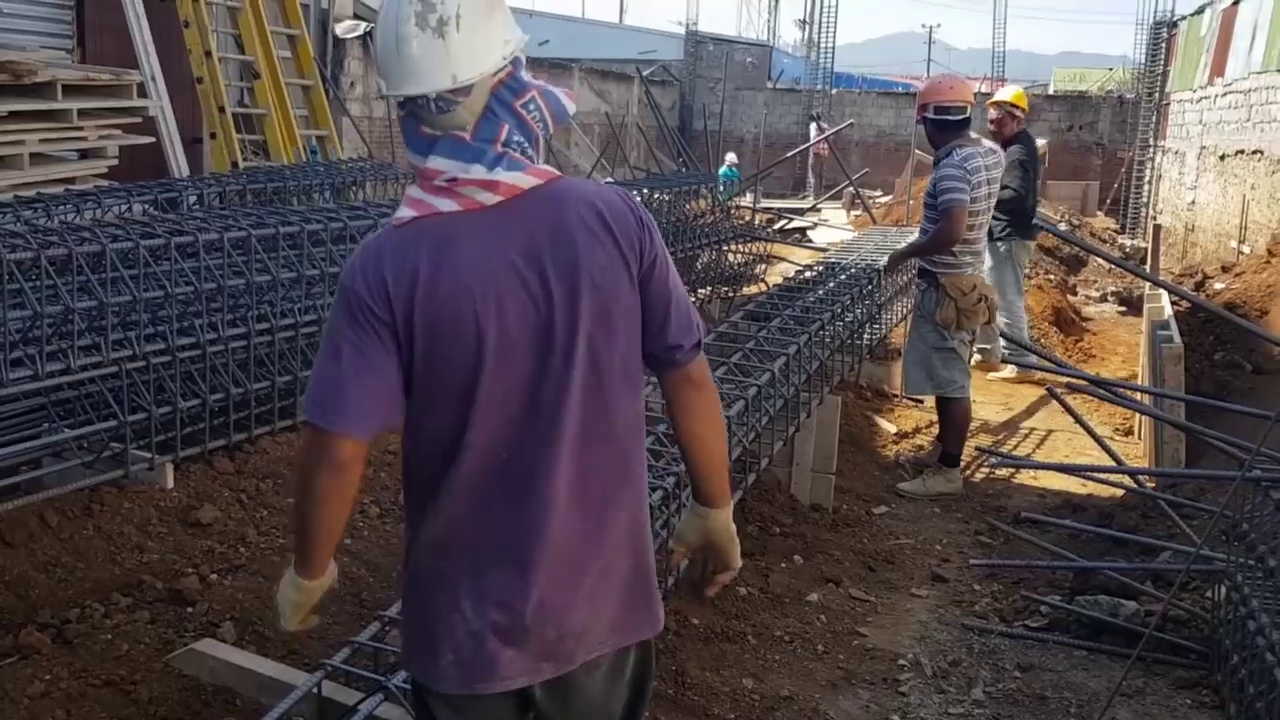helmet: (368, 4, 526, 107), (907, 76, 977, 118), (986, 81, 1031, 118), (723, 151, 738, 164)
helmet-off: (806, 109, 823, 126)
helmet-on: (366, 4, 542, 171), (907, 72, 977, 159), (986, 80, 1032, 145), (723, 151, 739, 170)
person: (280, 2, 727, 695), (894, 69, 998, 502), (982, 62, 1056, 369), (804, 109, 836, 205), (717, 150, 743, 201)
